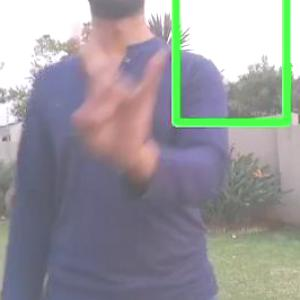takeoff-hand: (64, 2, 180, 166)
